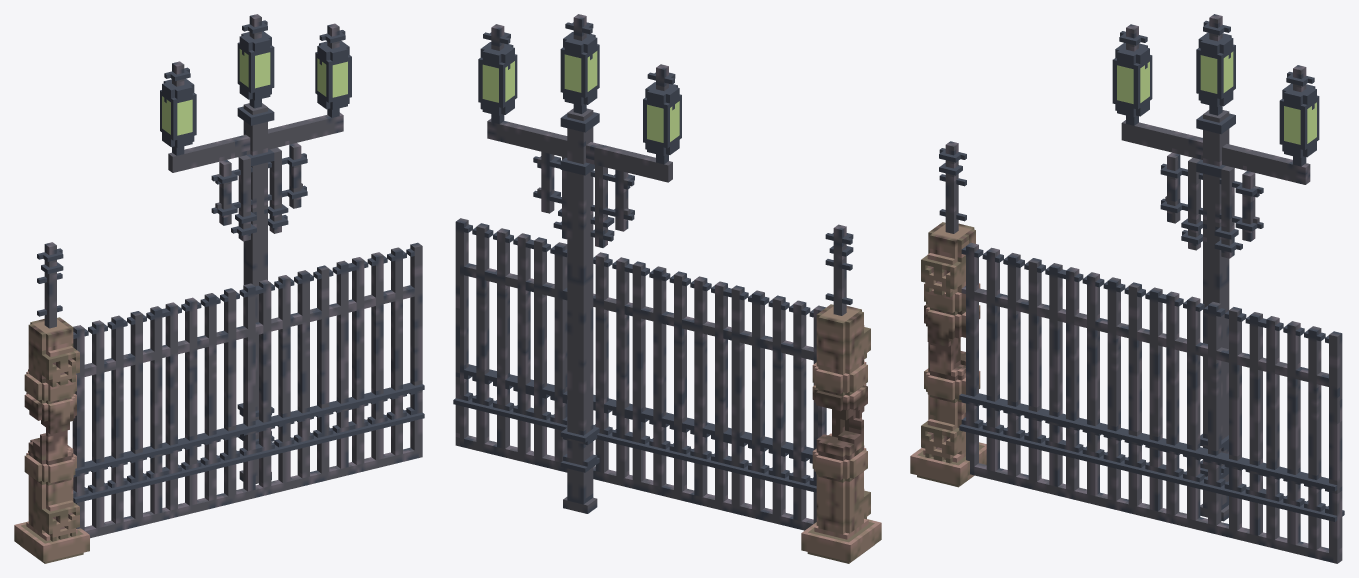
The model's file is Entrace_Fence-2.fbx.
The picture shows the model from 3 angles, left to right: view 1: azimuth 30°, elevation 25°; view 2: azimuth 150°, elevation 25°; view 3: azimuth 330°, elevation 25°; orthographic projection. The views are drawn at different scales.
Parts seen in each view (by area): view 1: Entrace_Fence-2; view 2: Entrace_Fence-2; view 3: Entrace_Fence-2.
Boxes of the visible parts, <box> form: Entrace_Fence-2: <box>14,14,424,563</box>; Entrace_Fence-2: <box>453,14,881,563</box>; Entrace_Fence-2: <box>910,14,1344,563</box>.
Size of the model in its own units: 500 by 570 by 95.
